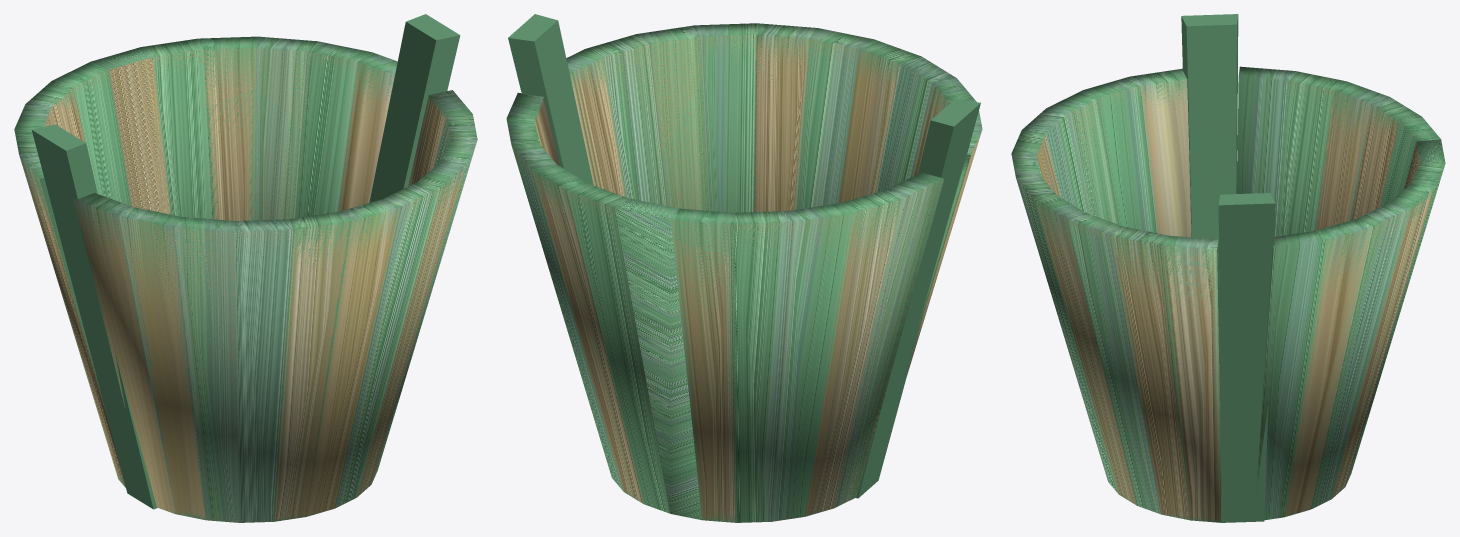
File: original-1.obj
The picture shows the model from 3 angles, left to right: view 1: azimuth 30°, elevation 25°; view 2: azimuth 150°, elevation 25°; view 3: azimuth 270°, elevation 25°; orthographic projection. The views are drawn at different scales.
Parts seen in each view (by area): view 1: #ID67.041, #ID67.040, #ID67.042, #ID67.039, #ID67.043, #ID67.027, #ID67.038, #ID67.025, #ID67.031, #ID67.030, #ID67.032, #ID67.026 (+11 smaller); view 2: #ID67.034, #ID67.033, #ID67.035, #ID67.046, #ID67.036, #ID67.032, #ID67.037, #ID67.048, #ID67.025, #ID67.047, #ID67.027, #ID67.043 (+11 smaller); view 3: #ID67.026, #ID67.044, #ID67.028, #ID67.045, #ID67.027, #ID67.029, #ID67.047, #ID67.030, #ID67.036, #ID67.048, #ID67.038, #ID67.037 (+12 smaller).
Boxes of the visible parts, <box> form: #ID67.041: <box>234,219,294,522</box>; #ID67.040: <box>174,217,239,522</box>; #ID67.042: <box>274,212,351,521</box>; #ID67.039: <box>119,207,205,520</box>; #ID67.043: <box>306,199,400,516</box>; #ID67.027: <box>31,124,157,509</box>; #ID67.038: <box>73,193,174,513</box>; #ID67.025: <box>334,182,440,508</box>; #ID67.031: <box>198,36,257,220</box>; #ID67.030: <box>255,36,317,220</box>; #ID67.032: <box>141,38,211,219</box>; #ID67.026: <box>369,14,460,202</box>; #ID67.034: <box>732,211,793,522</box>; #ID67.033: <box>671,208,736,522</box>; #ID67.035: <box>772,203,852,521</box>; #ID67.046: <box>614,198,701,519</box>; #ID67.036: <box>805,190,903,516</box>; #ID67.032: <box>567,183,670,513</box>; #ID67.037: <box>834,172,944,507</box>; #ID67.048: <box>695,23,756,212</box>; #ID67.025: <box>753,23,817,211</box>; #ID67.047: <box>636,25,708,210</box>; #ID67.027: <box>856,99,980,498</box>; #ID67.043: <box>796,28,873,209</box>; #ID67.026: <box>1218,193,1275,522</box>; #ID67.044: <box>1161,235,1221,522</box>; #ID67.028: <box>1256,231,1326,520</box>; #ID67.045: <box>1110,226,1190,520</box>; #ID67.027: <box>1181,14,1238,285</box>; #ID67.029: <box>1284,219,1373,517</box>; #ID67.047: <box>1067,213,1161,514</box>; #ID67.030: <box>1311,202,1410,509</box>; #ID67.036: <box>1276,71,1346,236</box>; #ID67.048: <box>1035,195,1136,505</box>; #ID67.038: <box>1130,68,1191,237</box>; #ID67.037: <box>1237,66,1295,236</box>.
Bounding box in the file's own units: 1.31 × 1.16 × 1.26.
